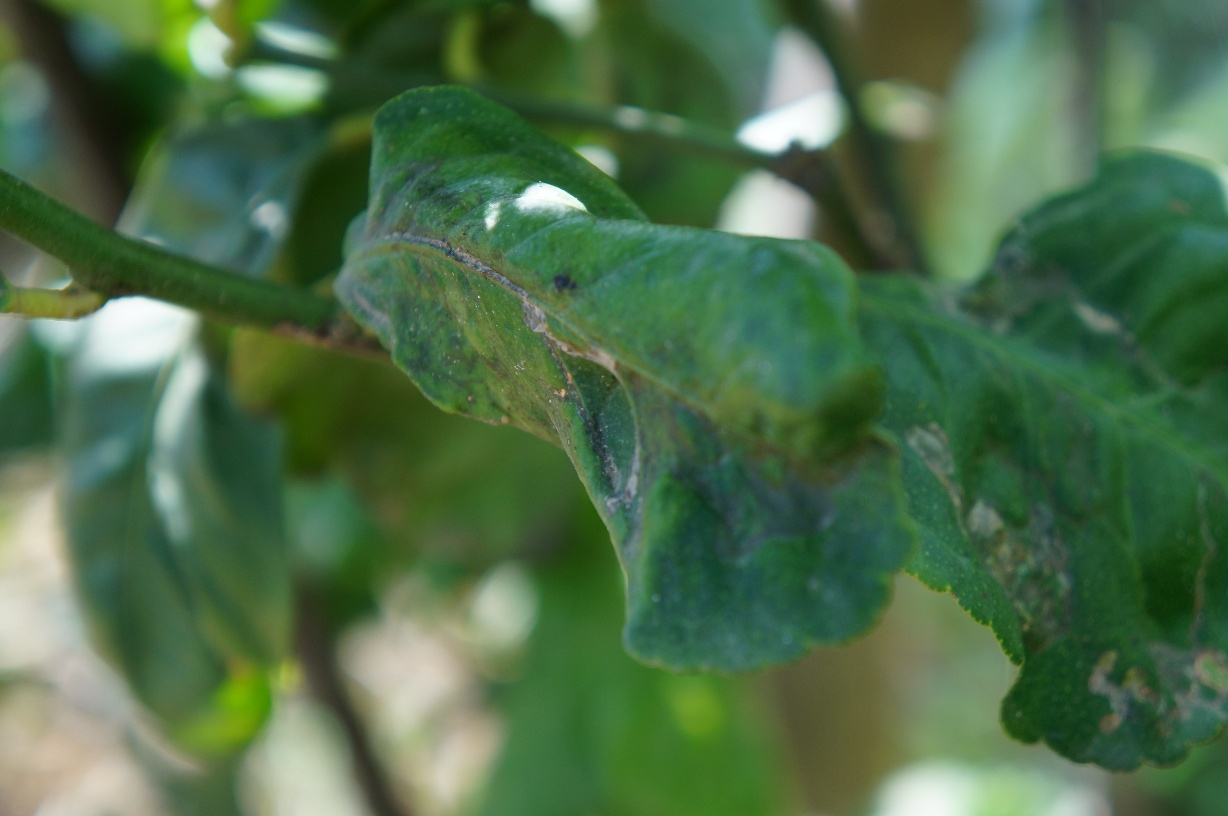damage: (320, 74, 926, 699)
